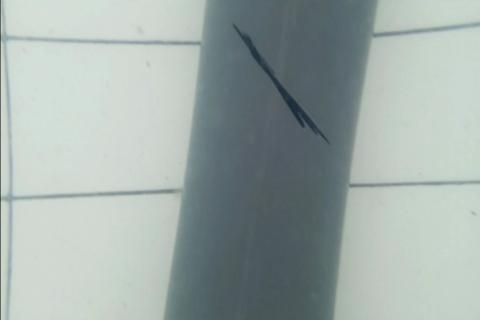keretakan: (230, 21, 330, 147)
